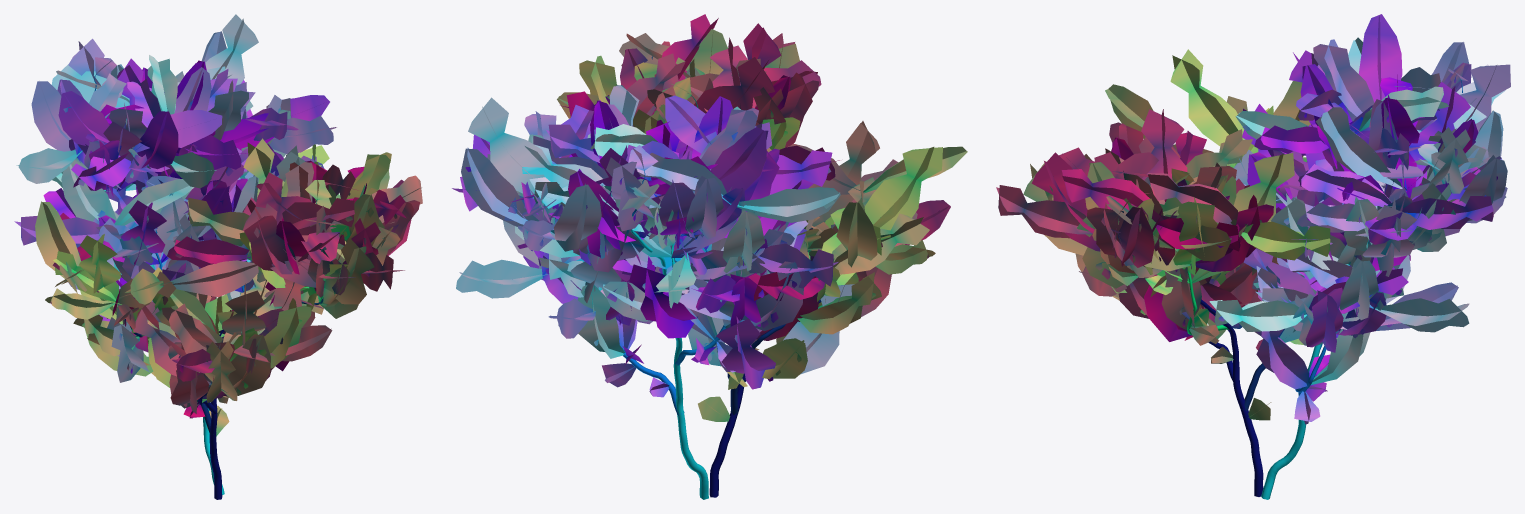
The model's file is European_Spindle_wk1ncbxja_Mid_wk1ncbxja_VarD_LOD2.fbx.
The picture shows the model from 3 angles, left to right: view 1: azimuth 30°, elevation 25°; view 2: azimuth 150°, elevation 25°; view 3: azimuth 270°, elevation 25°; orthographic projection. The views are drawn at different scales.
Parts seen in each view (by area): view 1: _66aw_VarD_LOD3; view 2: _66aw_VarD_LOD3; view 3: _66aw_VarD_LOD3.
Boxes of the visible parts, x1,y1,x2,y2 form: _66aw_VarD_LOD3: (14,14,422,499); _66aw_VarD_LOD3: (452,14,967,499); _66aw_VarD_LOD3: (996,14,1510,499).
Size of the model in its own units: 252 by 274 by 298.
